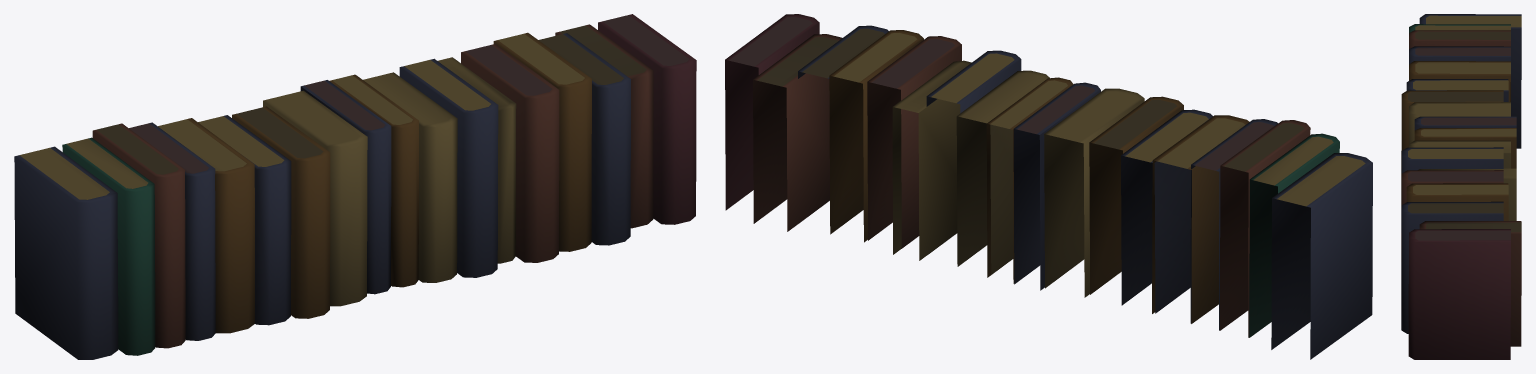
File: pq_livres_moyens_2.glb
The picture shows the model from 3 angles, left to right: view 1: azimuth 30°, elevation 25°; view 2: azimuth 150°, elevation 25°; view 3: azimuth 270°, elevation 25°; orthographic projection. The views are drawn at different scales.
Visible parts, largest first — view 1: BookGroup_Medium_2; view 2: BookGroup_Medium_2; view 3: BookGroup_Medium_2.
Boxes of the visible parts, x1,y1,x2,y2 form: BookGroup_Medium_2: [14, 14, 696, 359]; BookGroup_Medium_2: [725, 14, 1372, 359]; BookGroup_Medium_2: [1401, 14, 1521, 359].
Bounding box in the file's own units: 0.972 × 0.2595 × 0.2178.
